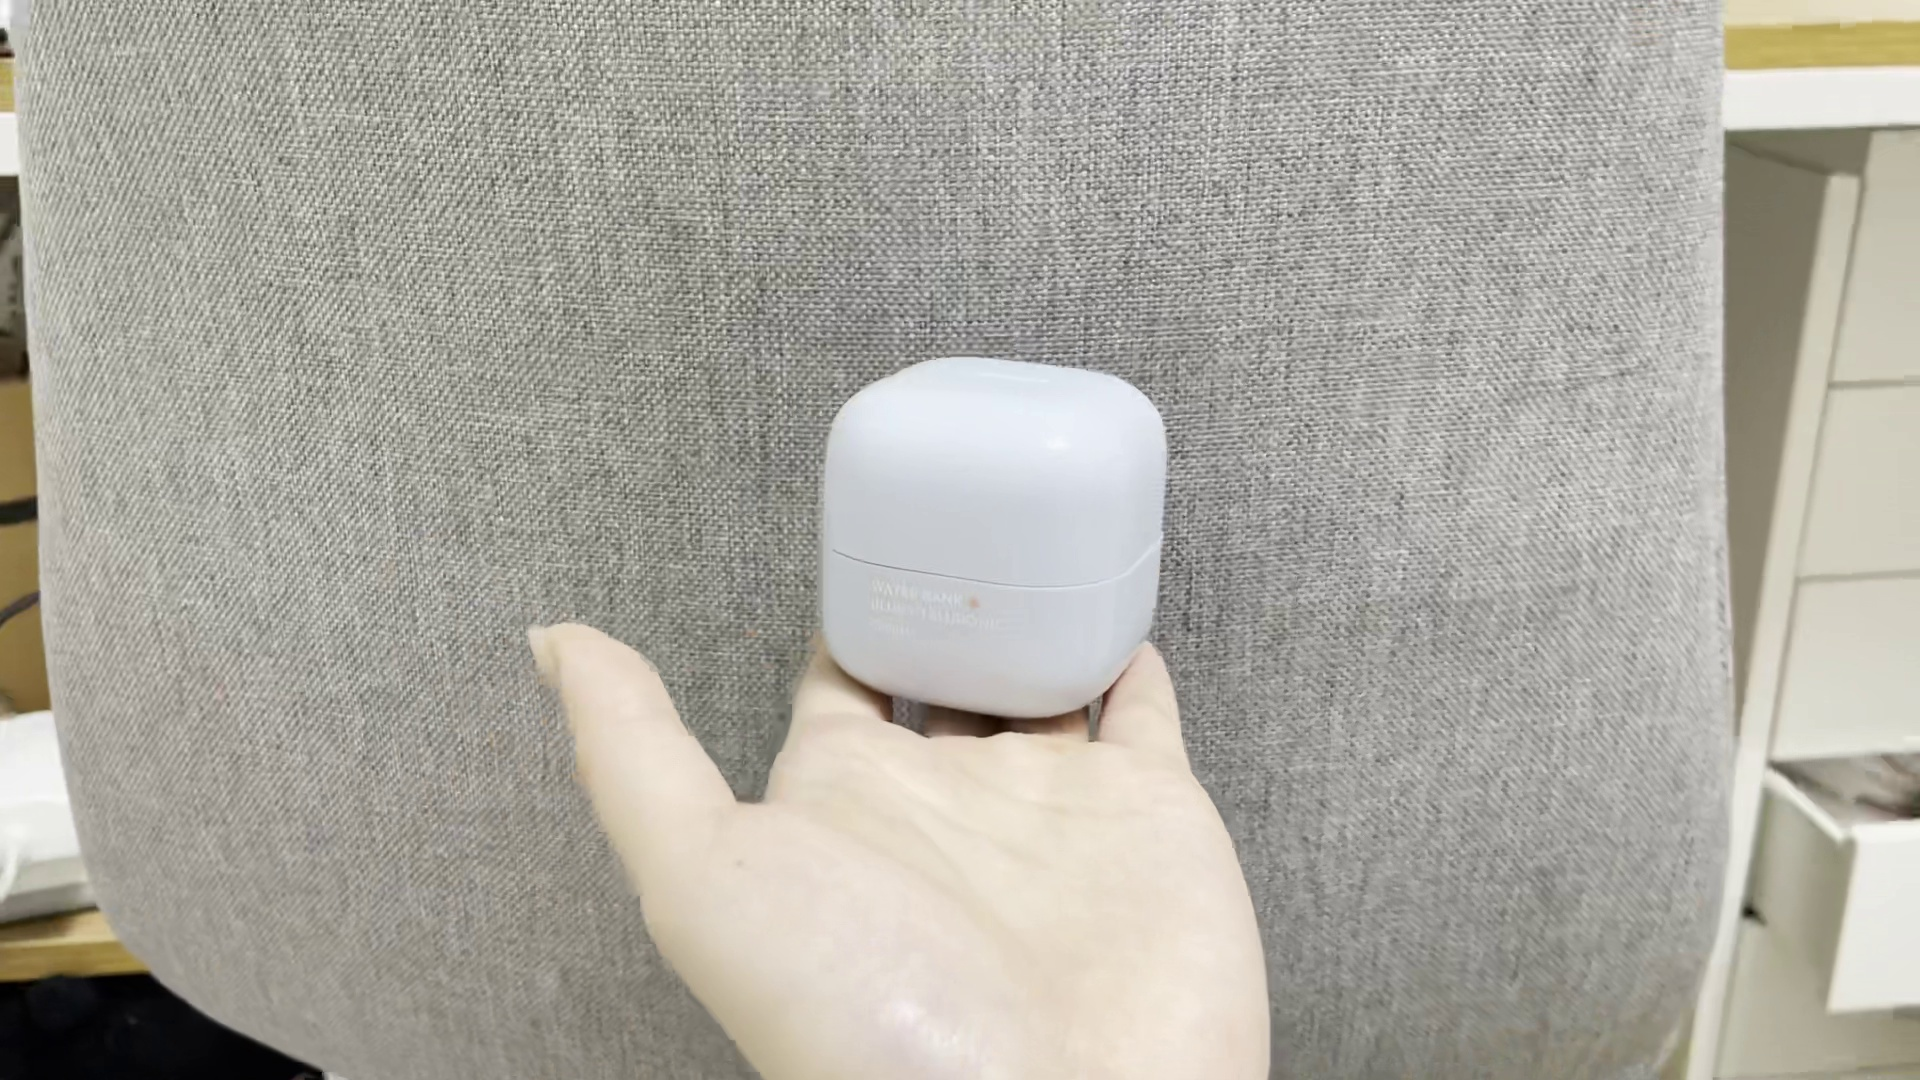cream: (822, 357, 1164, 716)
